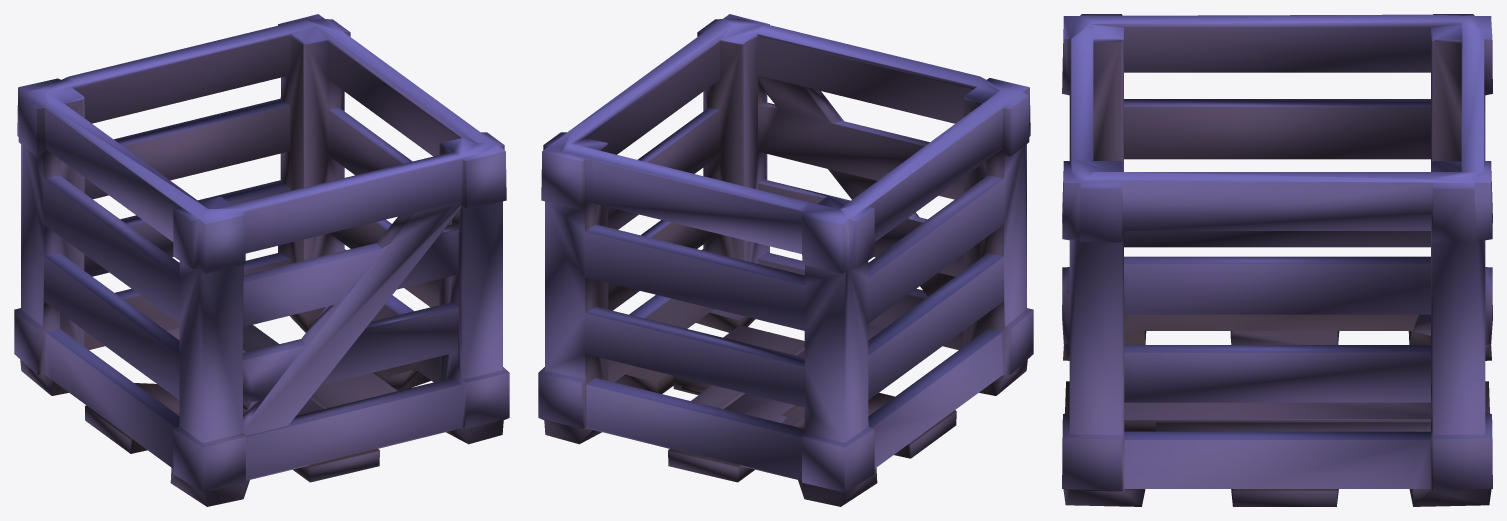
Rendered from model.progressive.glb.
The picture shows the model from 3 angles, left to right: view 1: azimuth 30°, elevation 25°; view 2: azimuth 150°, elevation 25°; view 3: azimuth 270°, elevation 25°; orthographic projection. The views are drawn at different scales.
Parts seen in each view (by area): view 1: texture_pbr_20250901; view 2: texture_pbr_20250901; view 3: texture_pbr_20250901.
Part boxes in pixels (<box>): texture_pbr_20250901: <box>14,14,509,506</box>; texture_pbr_20250901: <box>538,14,1033,506</box>; texture_pbr_20250901: <box>1062,14,1492,506</box>.
Bounding box in the file's own units: 1.81 × 1.59 × 1.89.
Materials: 1 (1 with a texture image).
